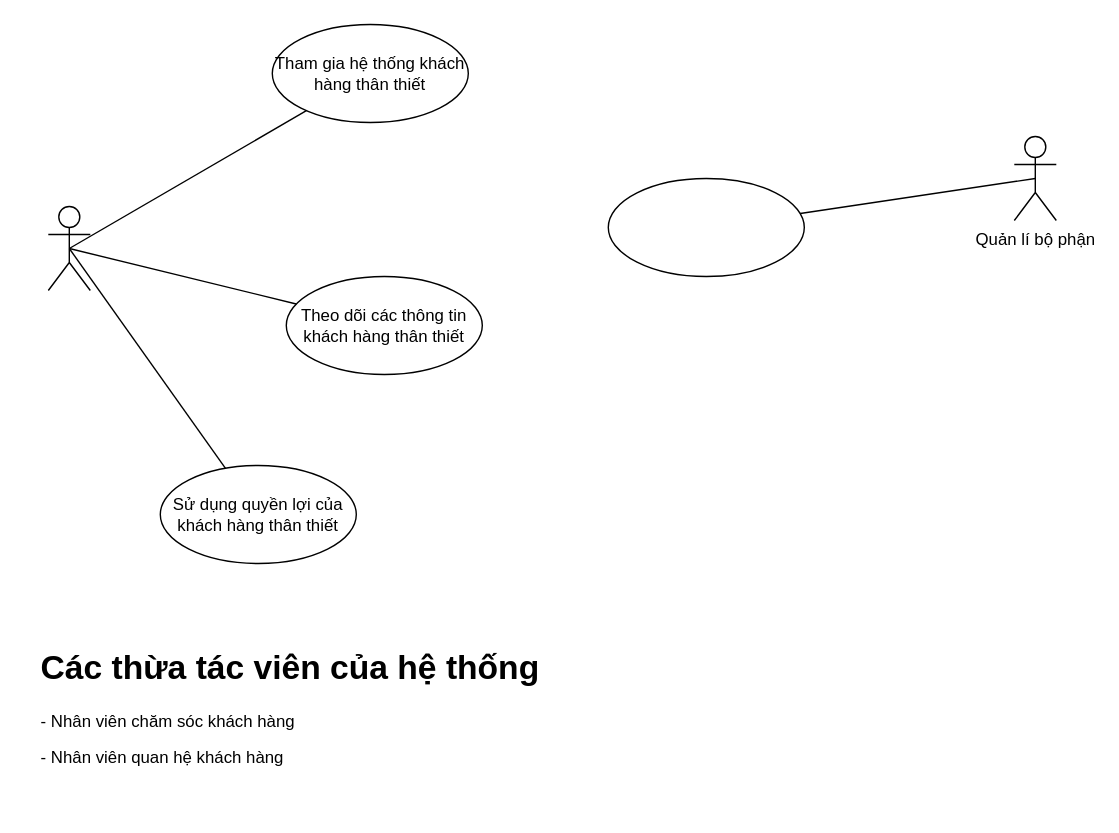
Some shapes in this 1119 by 833 pixel diagram are drawn without their labels. Each missing label, with the centre of its shape:
"Khách hàng" goes at point 68,247.
"Quản lí khách hàng thân thiết" goes at point 705,226.
